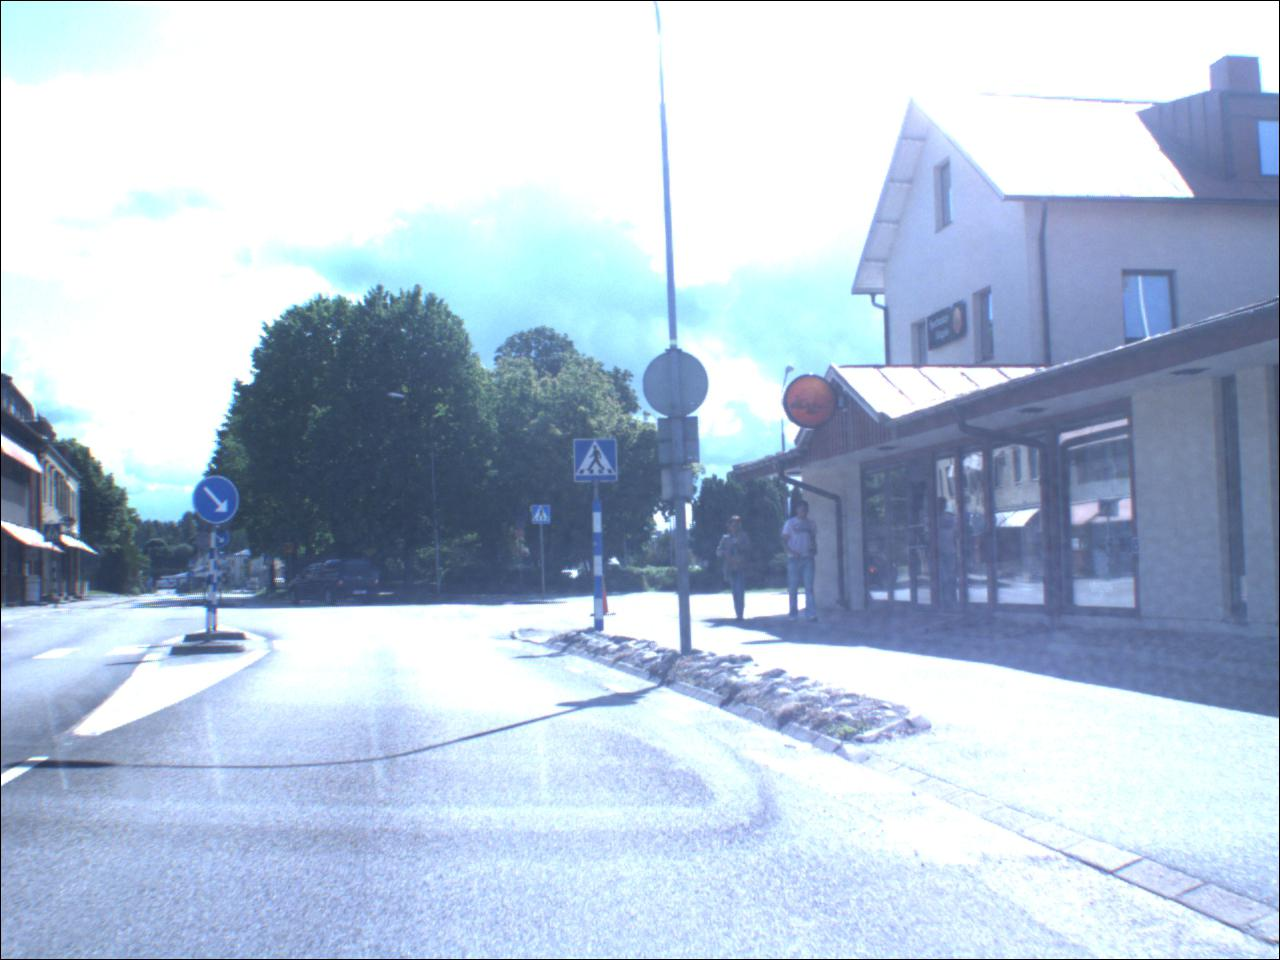50_SIGN: (282, 543, 298, 556)
PASS_RIGHT_SIDE: (194, 478, 242, 526), (208, 527, 233, 550)
PEDESTRIAN_CROSSING: (577, 441, 621, 485), (534, 507, 553, 527), (46, 526, 63, 544)
